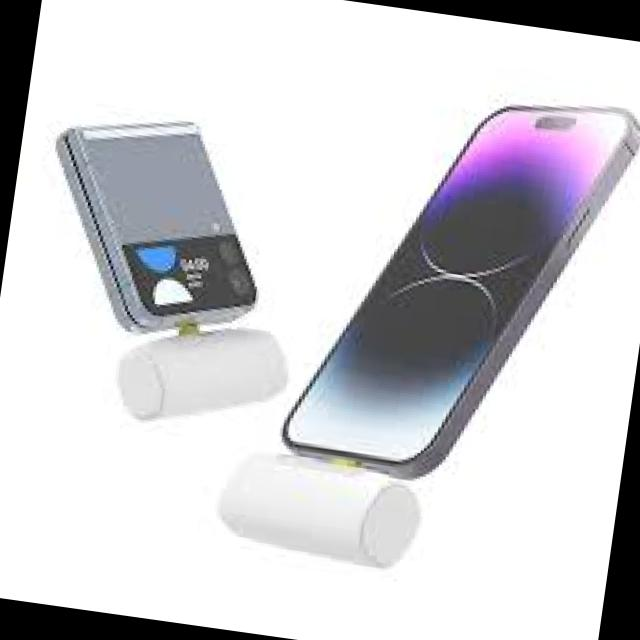portable-charger: (209, 439, 428, 578), (110, 310, 299, 444)
